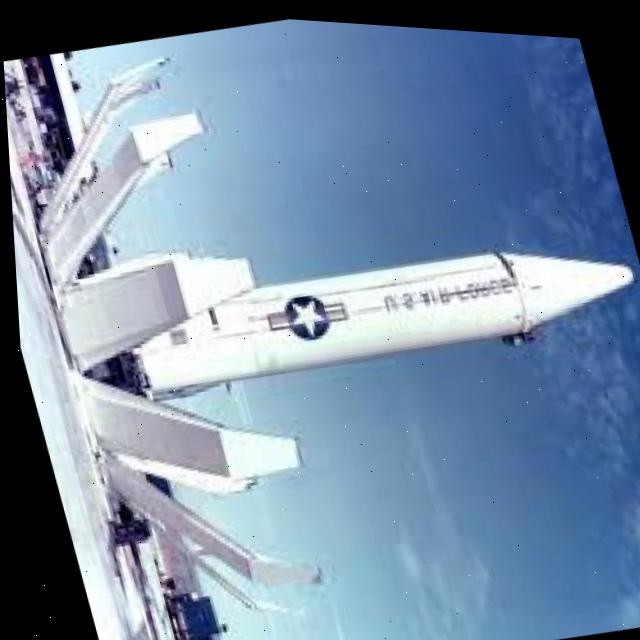missile: (83, 154, 640, 458)
